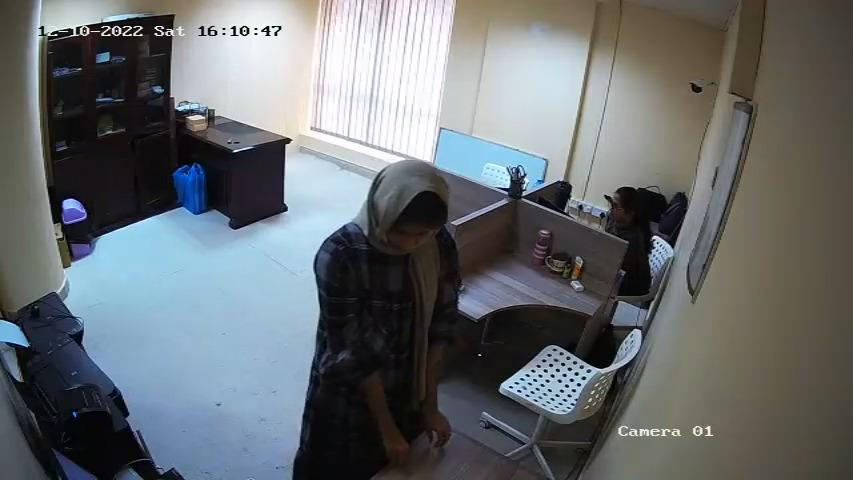no_gloves: (376, 431, 412, 472), (423, 403, 451, 451)
